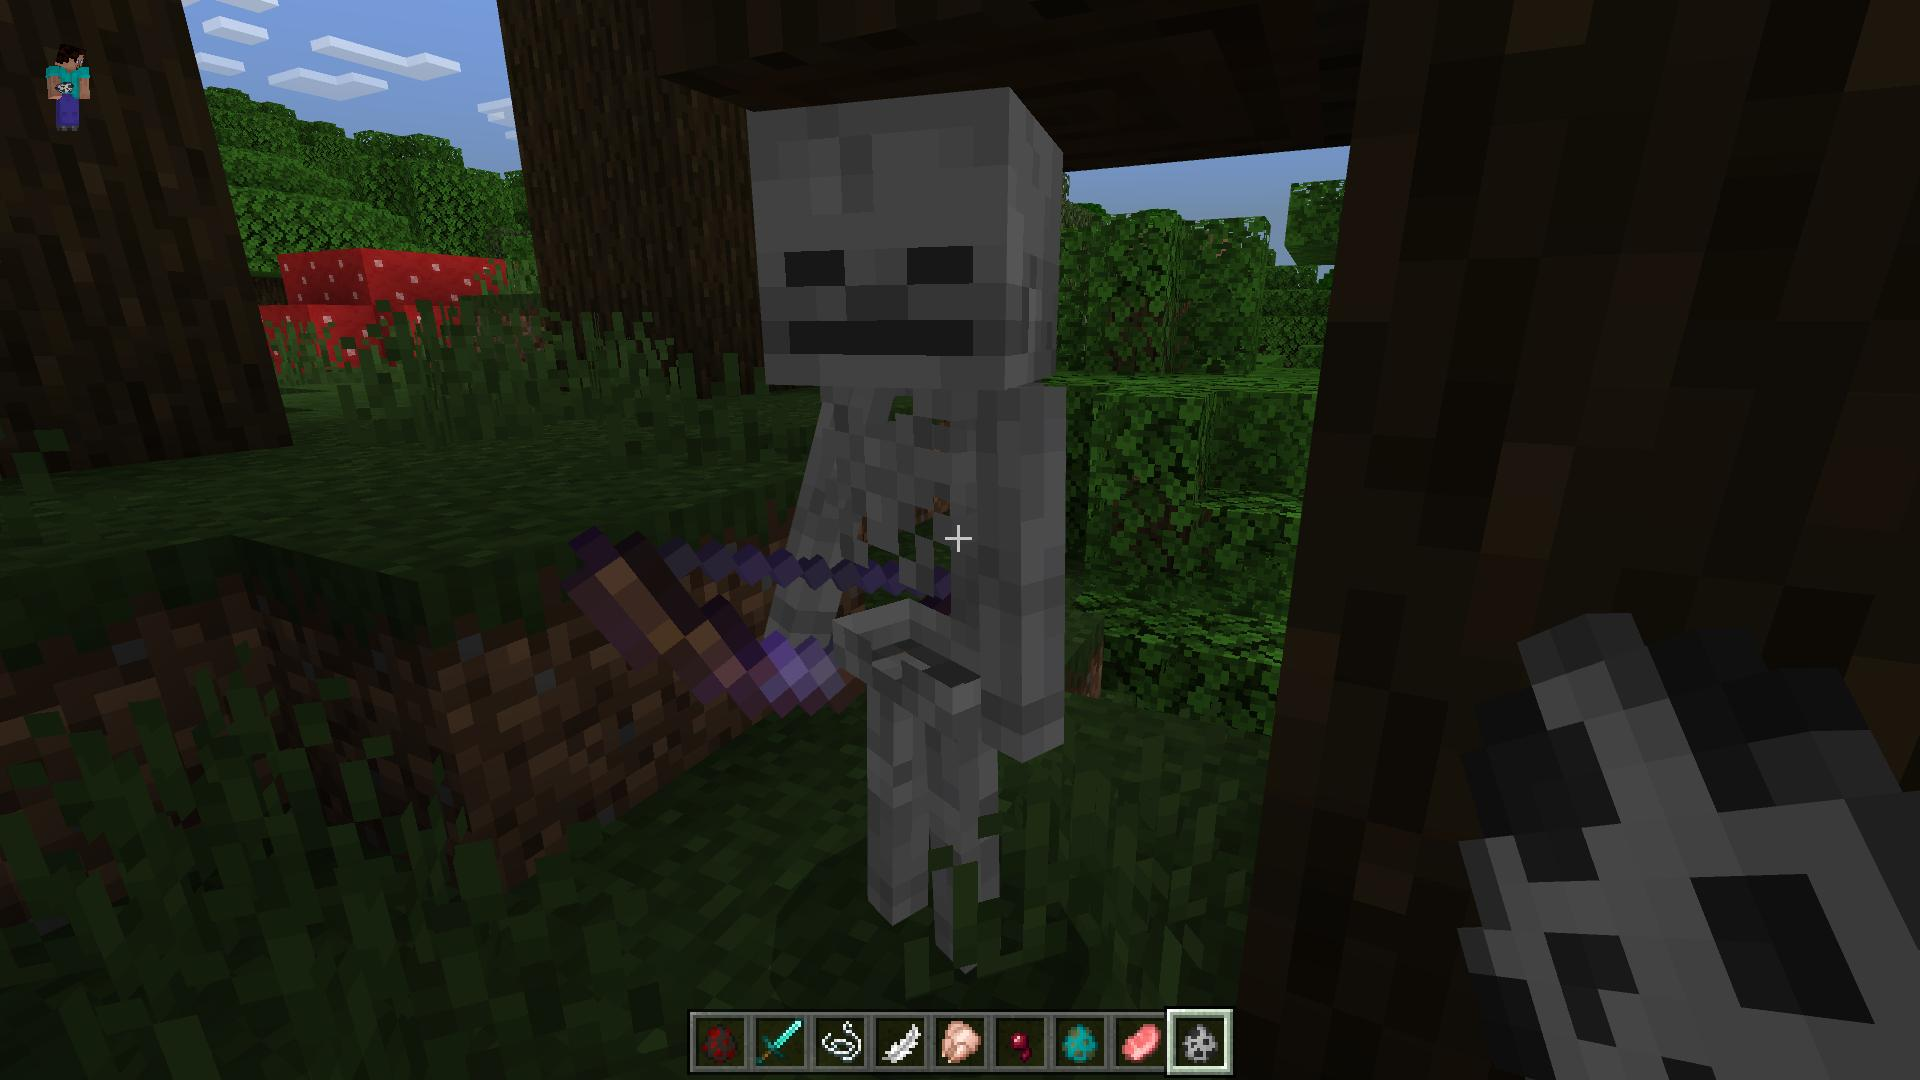skeleton: (570, 83, 1068, 964)
